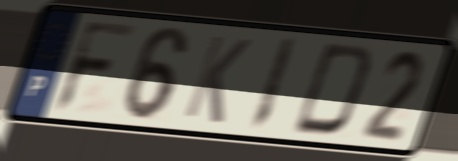2: (359, 48, 427, 145)
6: (118, 24, 191, 125)
D: (288, 40, 378, 140)
F: (49, 17, 143, 116)
I: (245, 35, 300, 135)
K: (179, 31, 254, 127)
